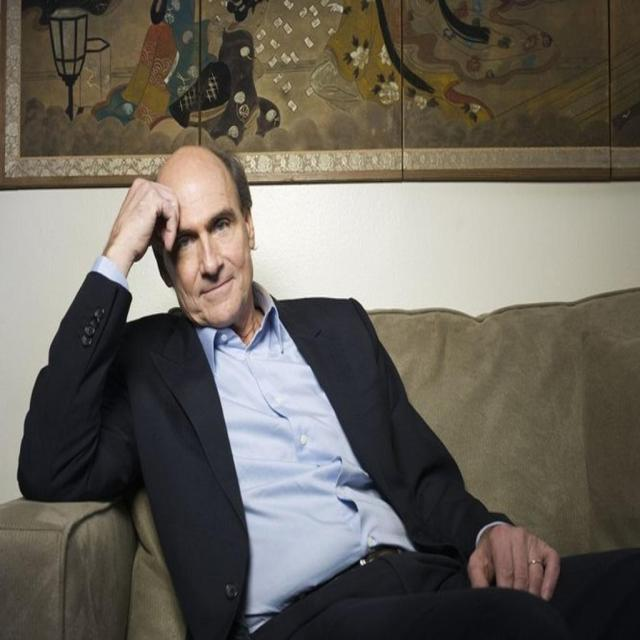Face: (160, 164, 256, 342)
